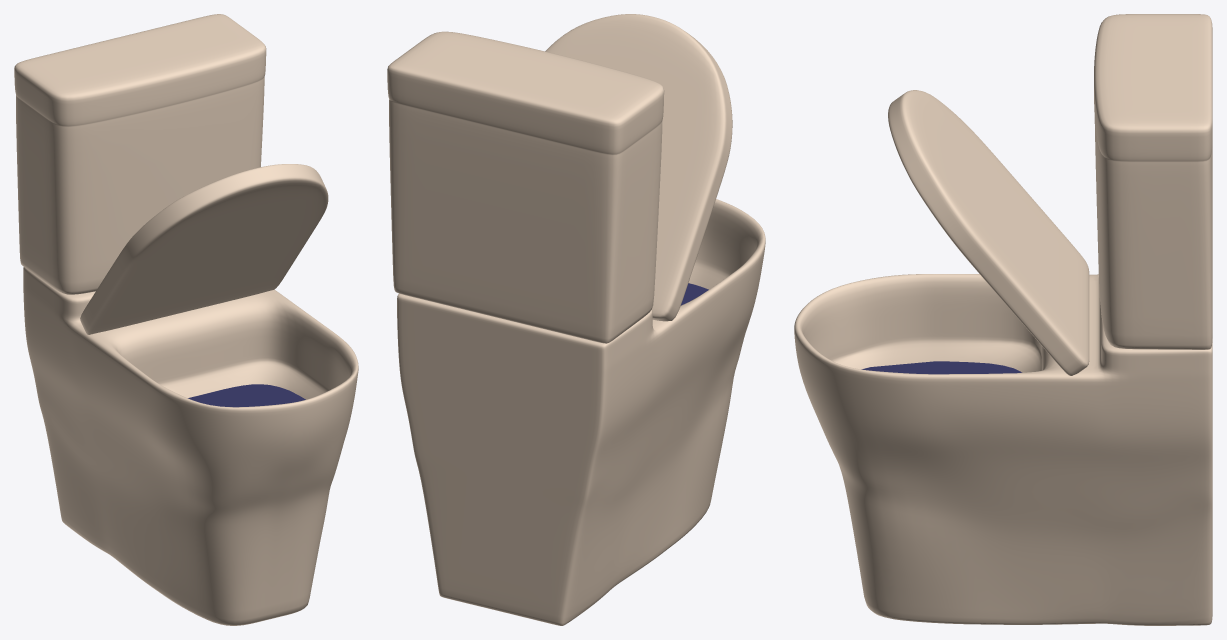
Rendered from Toilet-Lid-Up-Almond.fbx.
3 views of the same model, side by side, from view 1: azimuth 30°, elevation 25°; view 2: azimuth 150°, elevation 25°; view 3: azimuth 270°, elevation 25° (orthographic). The views are drawn at different scales.
Visible parts, largest first — view 1: Toilet, Toilet Lid, Water; view 2: Toilet, Toilet Lid; view 3: Toilet, Toilet Lid, Water.
Part boxes in pixels (x1,y1,x2,y2): Toilet: (14,14,358,625); Toilet Lid: (80,164,328,334); Water: (188,384,305,407); Toilet: (387,31,765,625); Toilet Lid: (545,14,732,321); Toilet: (794,14,1212,625); Toilet Lid: (888,90,1089,375); Water: (861,361,1021,374).
Bounding box in the file's own units: 39.5 × 83.85 × 60.12.
